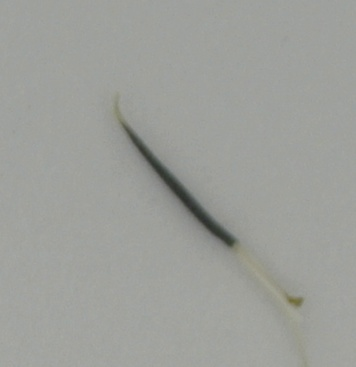เมล็ดดีเรียวยาว: (107, 92, 324, 362)
